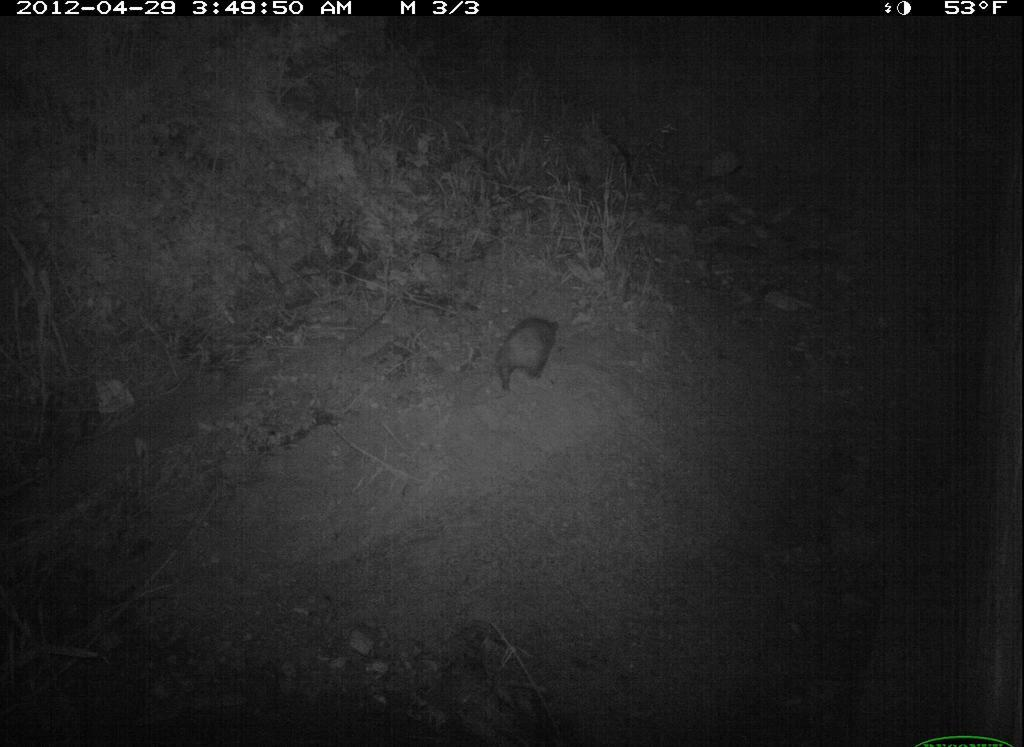opossum: (484, 316, 562, 396)
